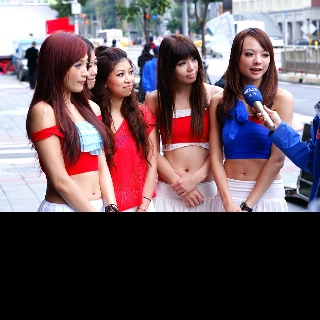without_mask: (236, 34, 270, 81), (104, 58, 138, 97), (63, 52, 88, 93), (172, 53, 196, 84), (86, 49, 98, 89)
